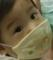with_mask: (1, 2, 53, 60)
